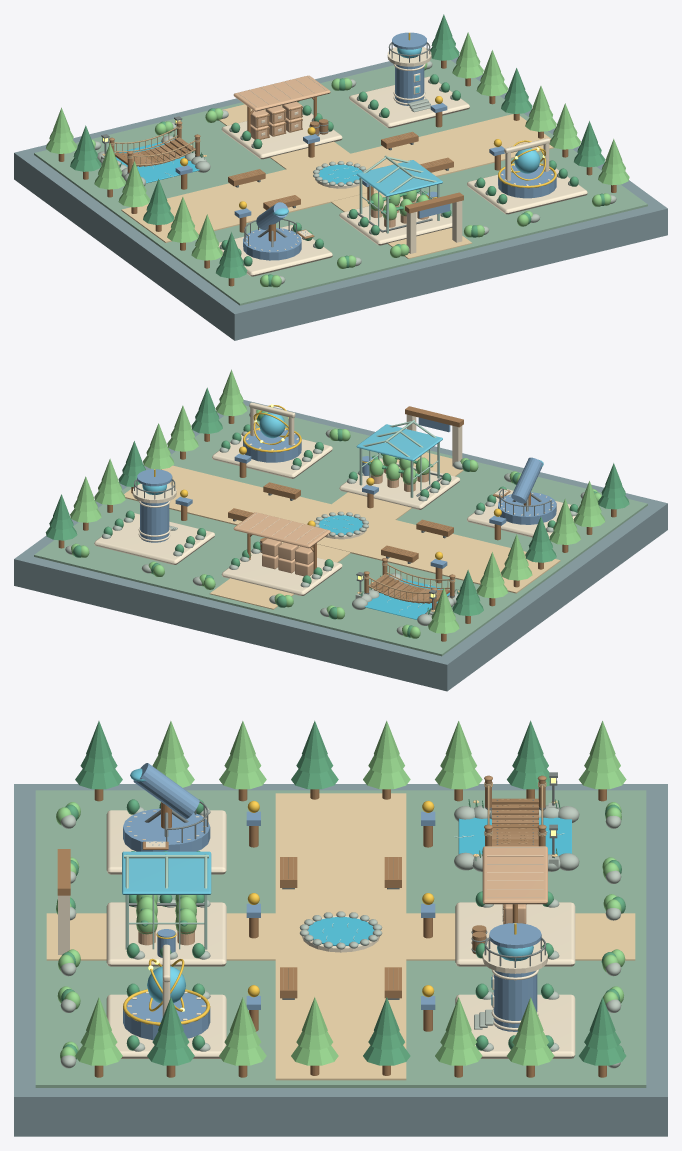
The model's file is starlight-camp.glb.
The picture shows the model from 3 angles, top to bottom: view 1: azimuth 30°, elevation 25°; view 2: azimuth 150°, elevation 25°; view 3: azimuth 270°, elevation 25°; orthographic projection. The views are drawn at different scales.
Parts seen in each view (by area): view 1: 营地草坪, 营地浮岛, 中央步道, Station_1_精修装饰, Station_4_精修装饰, Station_2_精修装饰, Station_5_精修装饰, Station_3_精修装饰, 精修吊桥与溪流, 营地环境细节_精修装饰, 纵向步道, 星光池水 (+1 smaller); view 2: 营地草坪, 营地浮岛, 中央步道, Station_4_精修装饰, Station_1_精修装饰, Station_2_精修装饰, Station_5_精修装饰, 精修吊桥与溪流, Station_3_精修装饰, 营地环境细节_精修装饰, 纵向步道, 星光池水 (+1 smaller); view 3: 营地草坪, 营地浮岛, 中央步道, Station_4_精修装饰, Station_2_精修装饰, Station_1_精修装饰, 纵向步道, Station_3_精修装饰, Station_5_精修装饰, 精修吊桥与溪流, 营地环境细节_精修装饰, 星光池水 (+16 smaller).
Part boxes in pixels (box(x1,y1,x2,y2)): 营地草坪: box(34, 58, 647, 305); 营地浮岛: box(14, 56, 667, 340); 中央步道: box(121, 114, 553, 242); Station_1_精修装饰: box(221, 75, 342, 159); Station_4_精修装饰: box(339, 155, 452, 245); Station_2_精修装饰: box(349, 32, 469, 128); Station_5_精修装饰: box(467, 138, 587, 214); Station_3_精修装饰: box(218, 202, 332, 276); 精修吊桥与溪流: box(97, 116, 210, 185); 营地环境细节_精修装饰: box(92, 61, 616, 287); 纵向步道: box(219, 104, 472, 258); 星光池水: box(318, 164, 362, 184); 营地草坪: box(34, 405, 647, 656); 营地浮岛: box(14, 399, 667, 691); 中央步道: box(124, 465, 560, 593); Station_4_精修装饰: box(339, 420, 460, 509); Station_1_精修装饰: box(221, 512, 342, 595); Station_2_精修装饰: box(94, 469, 214, 564); Station_5_精修装饰: box(212, 402, 332, 478); 精修吊桥与溪流: box(352, 558, 460, 625); Station_3_精修装饰: box(467, 457, 578, 539); 营地环境细节_精修装饰: box(65, 410, 601, 638); 纵向步道: box(209, 452, 463, 609); 星光池水: box(318, 515, 363, 534); 营地草坪: box(35, 790, 646, 1087); 营地浮岛: box(14, 784, 667, 1136); 中央步道: box(275, 793, 406, 1080); Station_4_精修装饰: box(106, 851, 226, 966); Station_2_精修装饰: box(455, 923, 575, 1058); Station_1_精修装饰: box(455, 846, 575, 966); 纵向步道: box(46, 913, 635, 960); Station_3_精修装饰: box(106, 763, 226, 874); Station_5_精修装饰: box(106, 944, 226, 1058); 精修吊桥与溪流: box(454, 772, 579, 871); 营地环境细节_精修装饰: box(56, 802, 625, 1068); 星光池水: box(307, 917, 374, 945).
Bounding box in the file's own units: 34 × 7.51 × 30.
